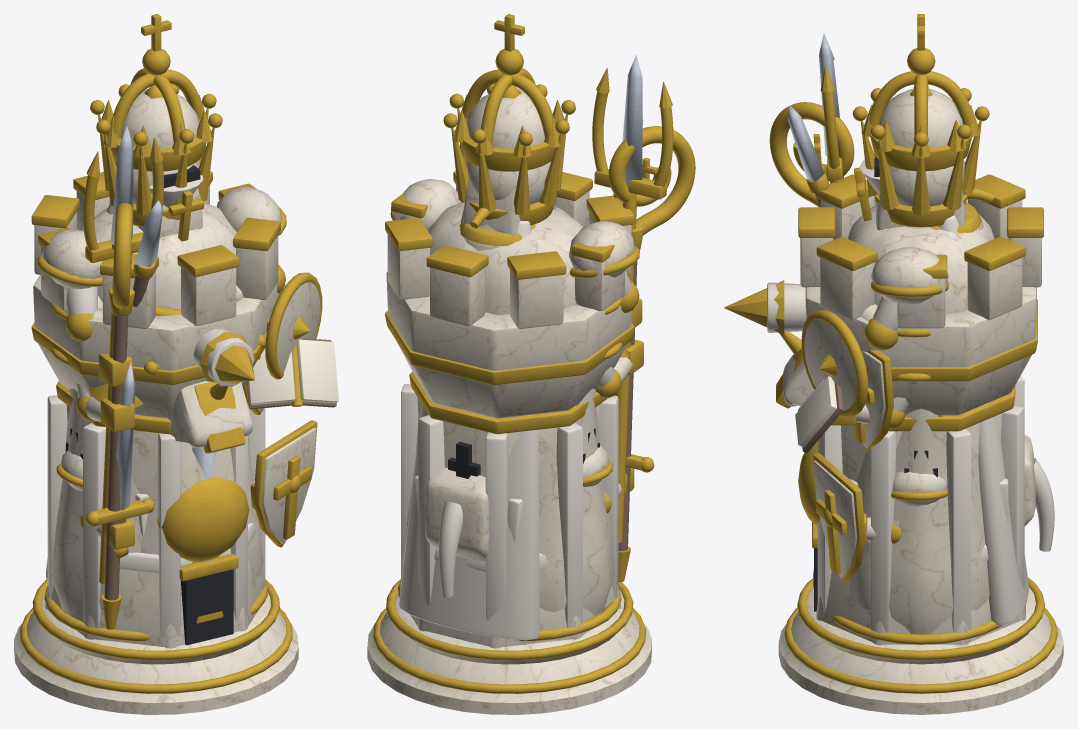
The model's file is wizard_white.glb.
3 views of the same model, side by side, from view 1: azimuth 30°, elevation 25°; view 2: azimuth 150°, elevation 25°; view 3: azimuth 270°, elevation 25° (orthographic).
Visible parts, largest first — view 1: Mesh_WeaponArm_r, Mesh_Body_r, Plinth_k, Mesh_Body_n, Mesh_Body_k, Mesh_Head_k, Mesh_WeaponArm_b, Mesh_WeaponArm_q, Mesh_ShieldArm_p, Mesh_WeaponArm_k, Mesh_ShieldArm_b, Mesh_Head_q (+6 smaller); view 2: Mesh_WeaponArm_r, Mesh_Body_k, Mesh_Body_r, Plinth_k, Mesh_Head_k, Mesh_WeaponArm_q, Mesh_WeaponArm_b, Mesh_Body_n, Mesh_Head_q, Mesh_WeaponArm_k, Mesh_ShieldArm_k, Mesh_WeaponArm_p (+3 smaller); view 3: Mesh_WeaponArm_r, Mesh_Body_k, Plinth_k, Mesh_Body_r, Mesh_Head_k, Mesh_ShieldArm_p, Mesh_Head_q, Mesh_Body_n, Mesh_ShieldArm_q, Mesh_ShieldArm_k, Mesh_ShieldArm_b, Mesh_WeaponArm_b (+6 smaller).
Boxes of the visible parts, left/top/right/bottom form: Mesh_WeaponArm_r: left=31, top=171, right=280, bottom=418; Mesh_Body_r: left=45, top=381, right=267, bottom=648; Plinth_k: left=14, top=579, right=298, bottom=714; Mesh_Body_n: left=135, top=381, right=252, bottom=561; Mesh_Body_k: left=46, top=203, right=263, bottom=615; Mesh_Head_k: left=101, top=14, right=213, bottom=207; Mesh_WeaponArm_b: left=51, top=203, right=135, bottom=629; Mesh_WeaponArm_q: left=51, top=126, right=163, bottom=584; Mesh_ShieldArm_p: left=250, top=420, right=317, bottom=547; Mesh_WeaponArm_k: left=37, top=229, right=265, bottom=561; Mesh_ShieldArm_b: left=247, top=338, right=338, bottom=409; Mesh_Head_q: left=90, top=83, right=222, bottom=226; Mesh_WeaponArm_r: left=385, top=171, right=634, bottom=418; Mesh_Body_k: left=399, top=202, right=615, bottom=640; Mesh_Body_r: left=398, top=372, right=621, bottom=648; Plinth_k: left=367, top=579, right=651, bottom=714; Mesh_Head_k: left=452, top=14, right=564, bottom=204; Mesh_WeaponArm_q: left=574, top=55, right=673, bottom=542; Mesh_WeaponArm_b: left=596, top=126, right=695, bottom=582; Mesh_Body_n: left=414, top=467, right=522, bottom=597; Mesh_Head_q: left=443, top=84, right=575, bottom=237; Mesh_WeaponArm_k: left=569, top=221, right=639, bottom=313; Mesh_ShieldArm_k: left=390, top=179, right=461, bottom=230; Mesh_WeaponArm_p: left=583, top=445, right=654, bottom=513; Mesh_WeaponArm_r: left=724, top=174, right=1043, bottom=415; Mesh_Body_k: left=847, top=204, right=1028, bottom=634; Plinth_k: left=778, top=577, right=1063, bottom=714; Mesh_Body_r: left=812, top=376, right=1025, bottom=645; Mesh_Head_k: left=859, top=14, right=980, bottom=206; Mesh_ShieldArm_p: left=813, top=453, right=947, bottom=581; Mesh_Head_q: left=852, top=85, right=989, bottom=232; Mesh_Body_n: left=776, top=332, right=1054, bottom=551; Mesh_ShieldArm_q: left=801, top=310, right=946, bottom=417; Mesh_ShieldArm_k: left=860, top=247, right=948, bottom=350; Mesh_ShieldArm_b: left=795, top=373, right=931, bottom=452; Mesh_WeaponArm_b: left=769, top=102, right=854, bottom=207.
Size of the model in its own units: 0.7981 by 1.88 by 0.905.
7 materials, 3 textured.
